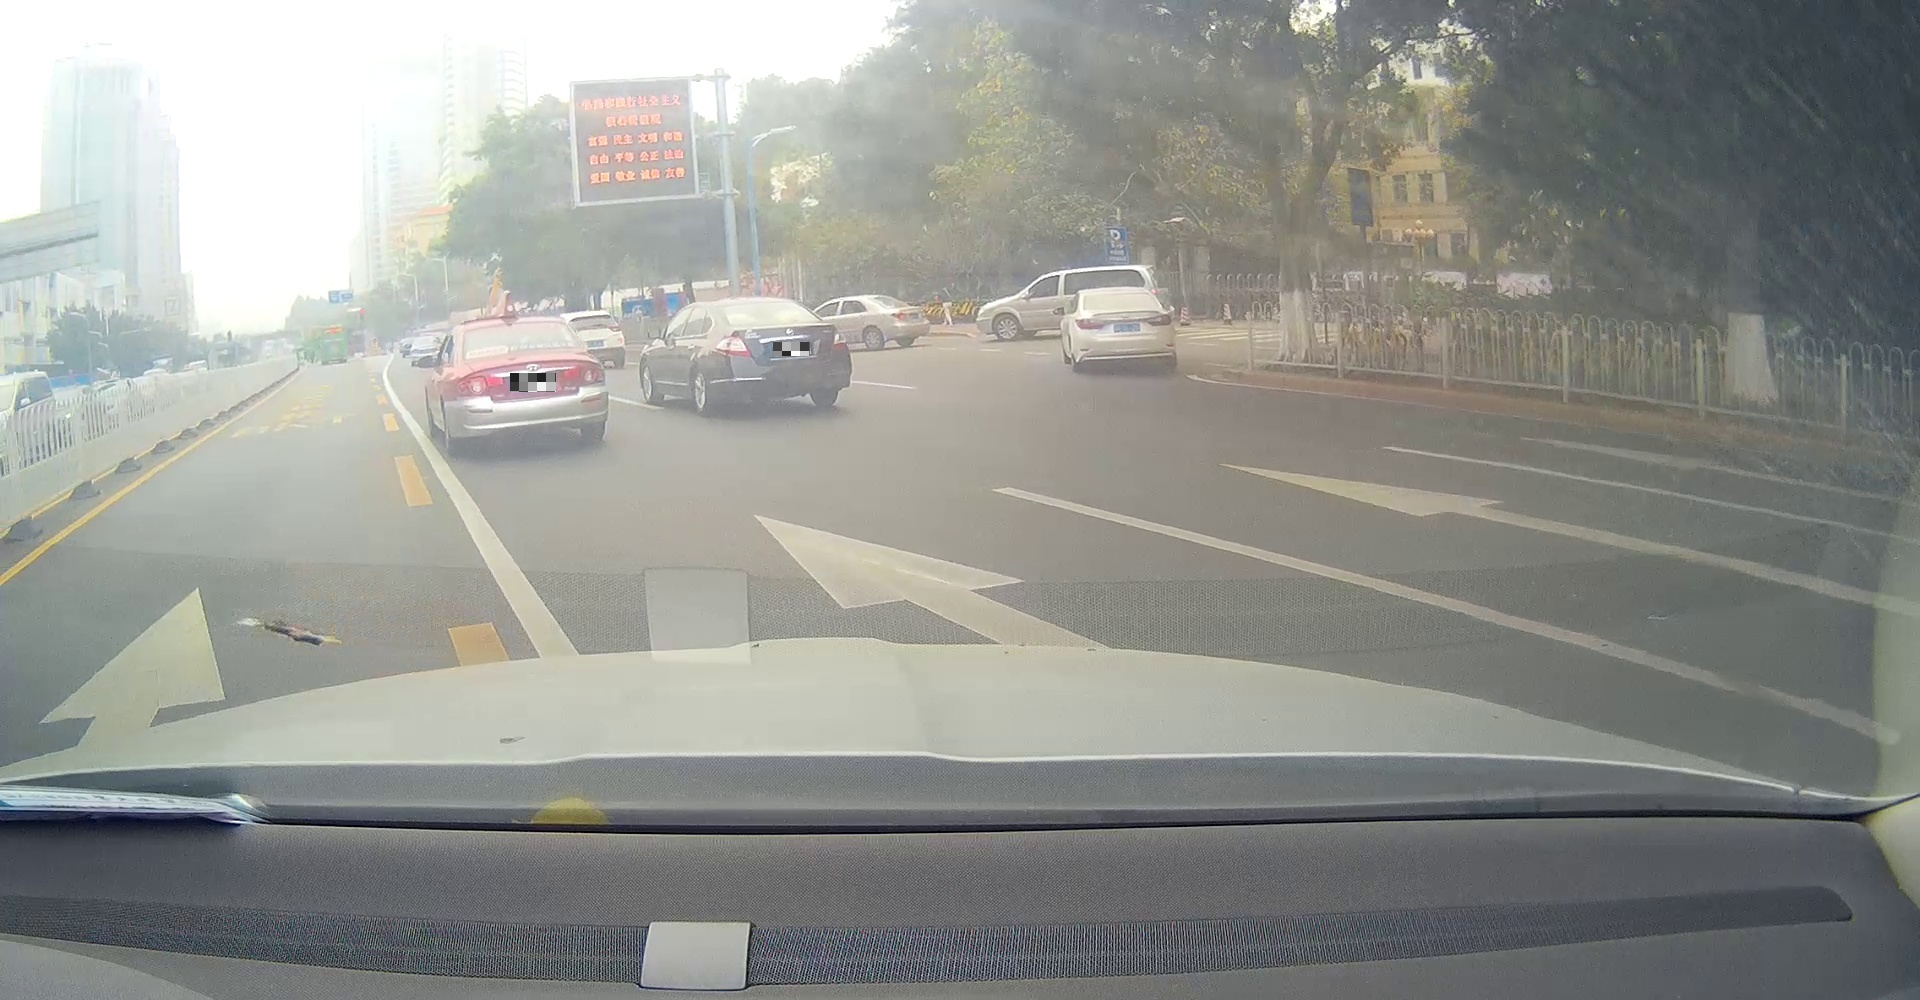L_light: (455, 374, 503, 396), (716, 336, 750, 357), (1076, 319, 1103, 329)
R_light: (564, 365, 604, 385), (1148, 313, 1172, 326), (832, 331, 847, 350)
T_light: (505, 325, 530, 327), (1112, 293, 1128, 297), (756, 303, 772, 306)
day-no: (450, 319, 608, 456), (712, 299, 851, 418), (1073, 287, 1176, 372)
plate_1: (510, 373, 556, 392)
plate_2: (773, 341, 810, 357)
